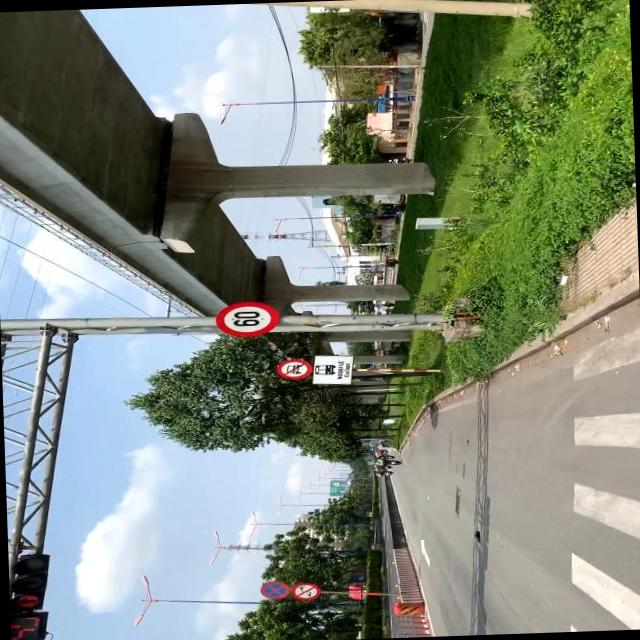P-127: (214, 300, 278, 338)
P-130: (262, 580, 291, 598)
